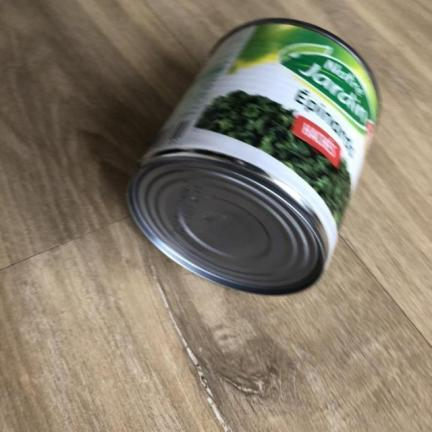can: (129, 19, 378, 293)
